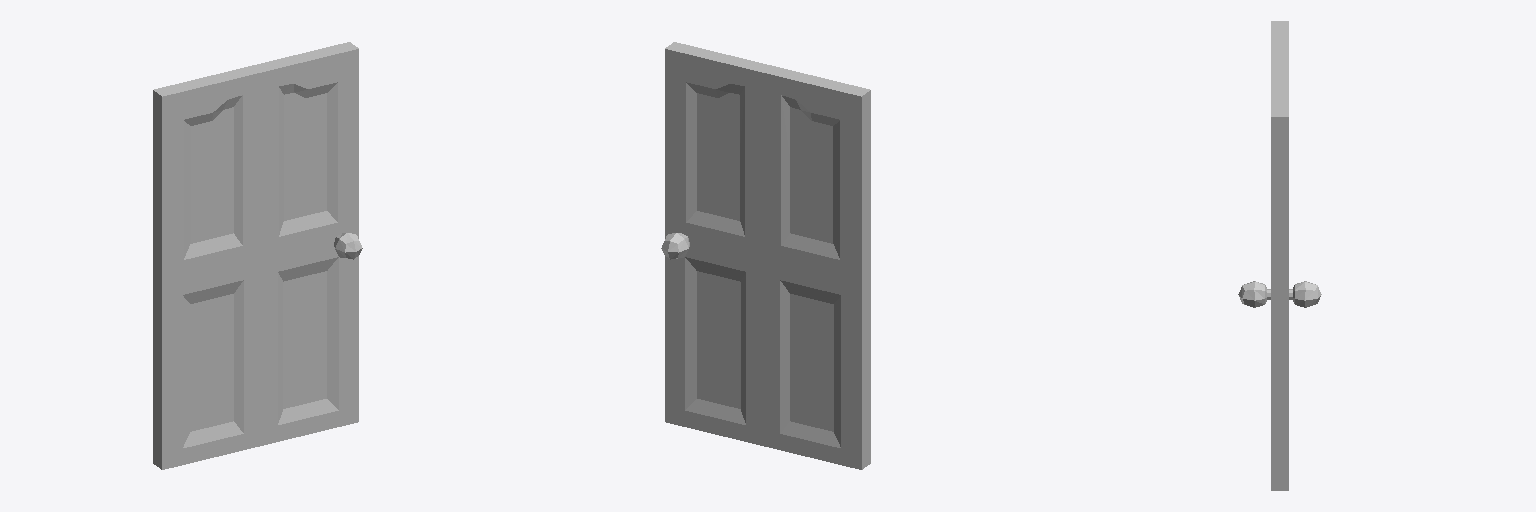
The model's file is Door.obj.
3 renders of one model, left to right at view 1: azimuth 30°, elevation 25°; view 2: azimuth 150°, elevation 25°; view 3: azimuth 270°, elevation 25°, orthographic.
Visible parts, largest first — view 1: Cube_Cube.016; view 2: Cube_Cube.016; view 3: Cube_Cube.016.
Boxes of the visible parts, box(x1,y1,x2,y2) form: Cube_Cube.016: box(153, 42, 362, 469); Cube_Cube.016: box(661, 42, 870, 469); Cube_Cube.016: box(1238, 21, 1321, 490).
Bounding box in the file's own units: 1.65 × 3 × 0.6071.